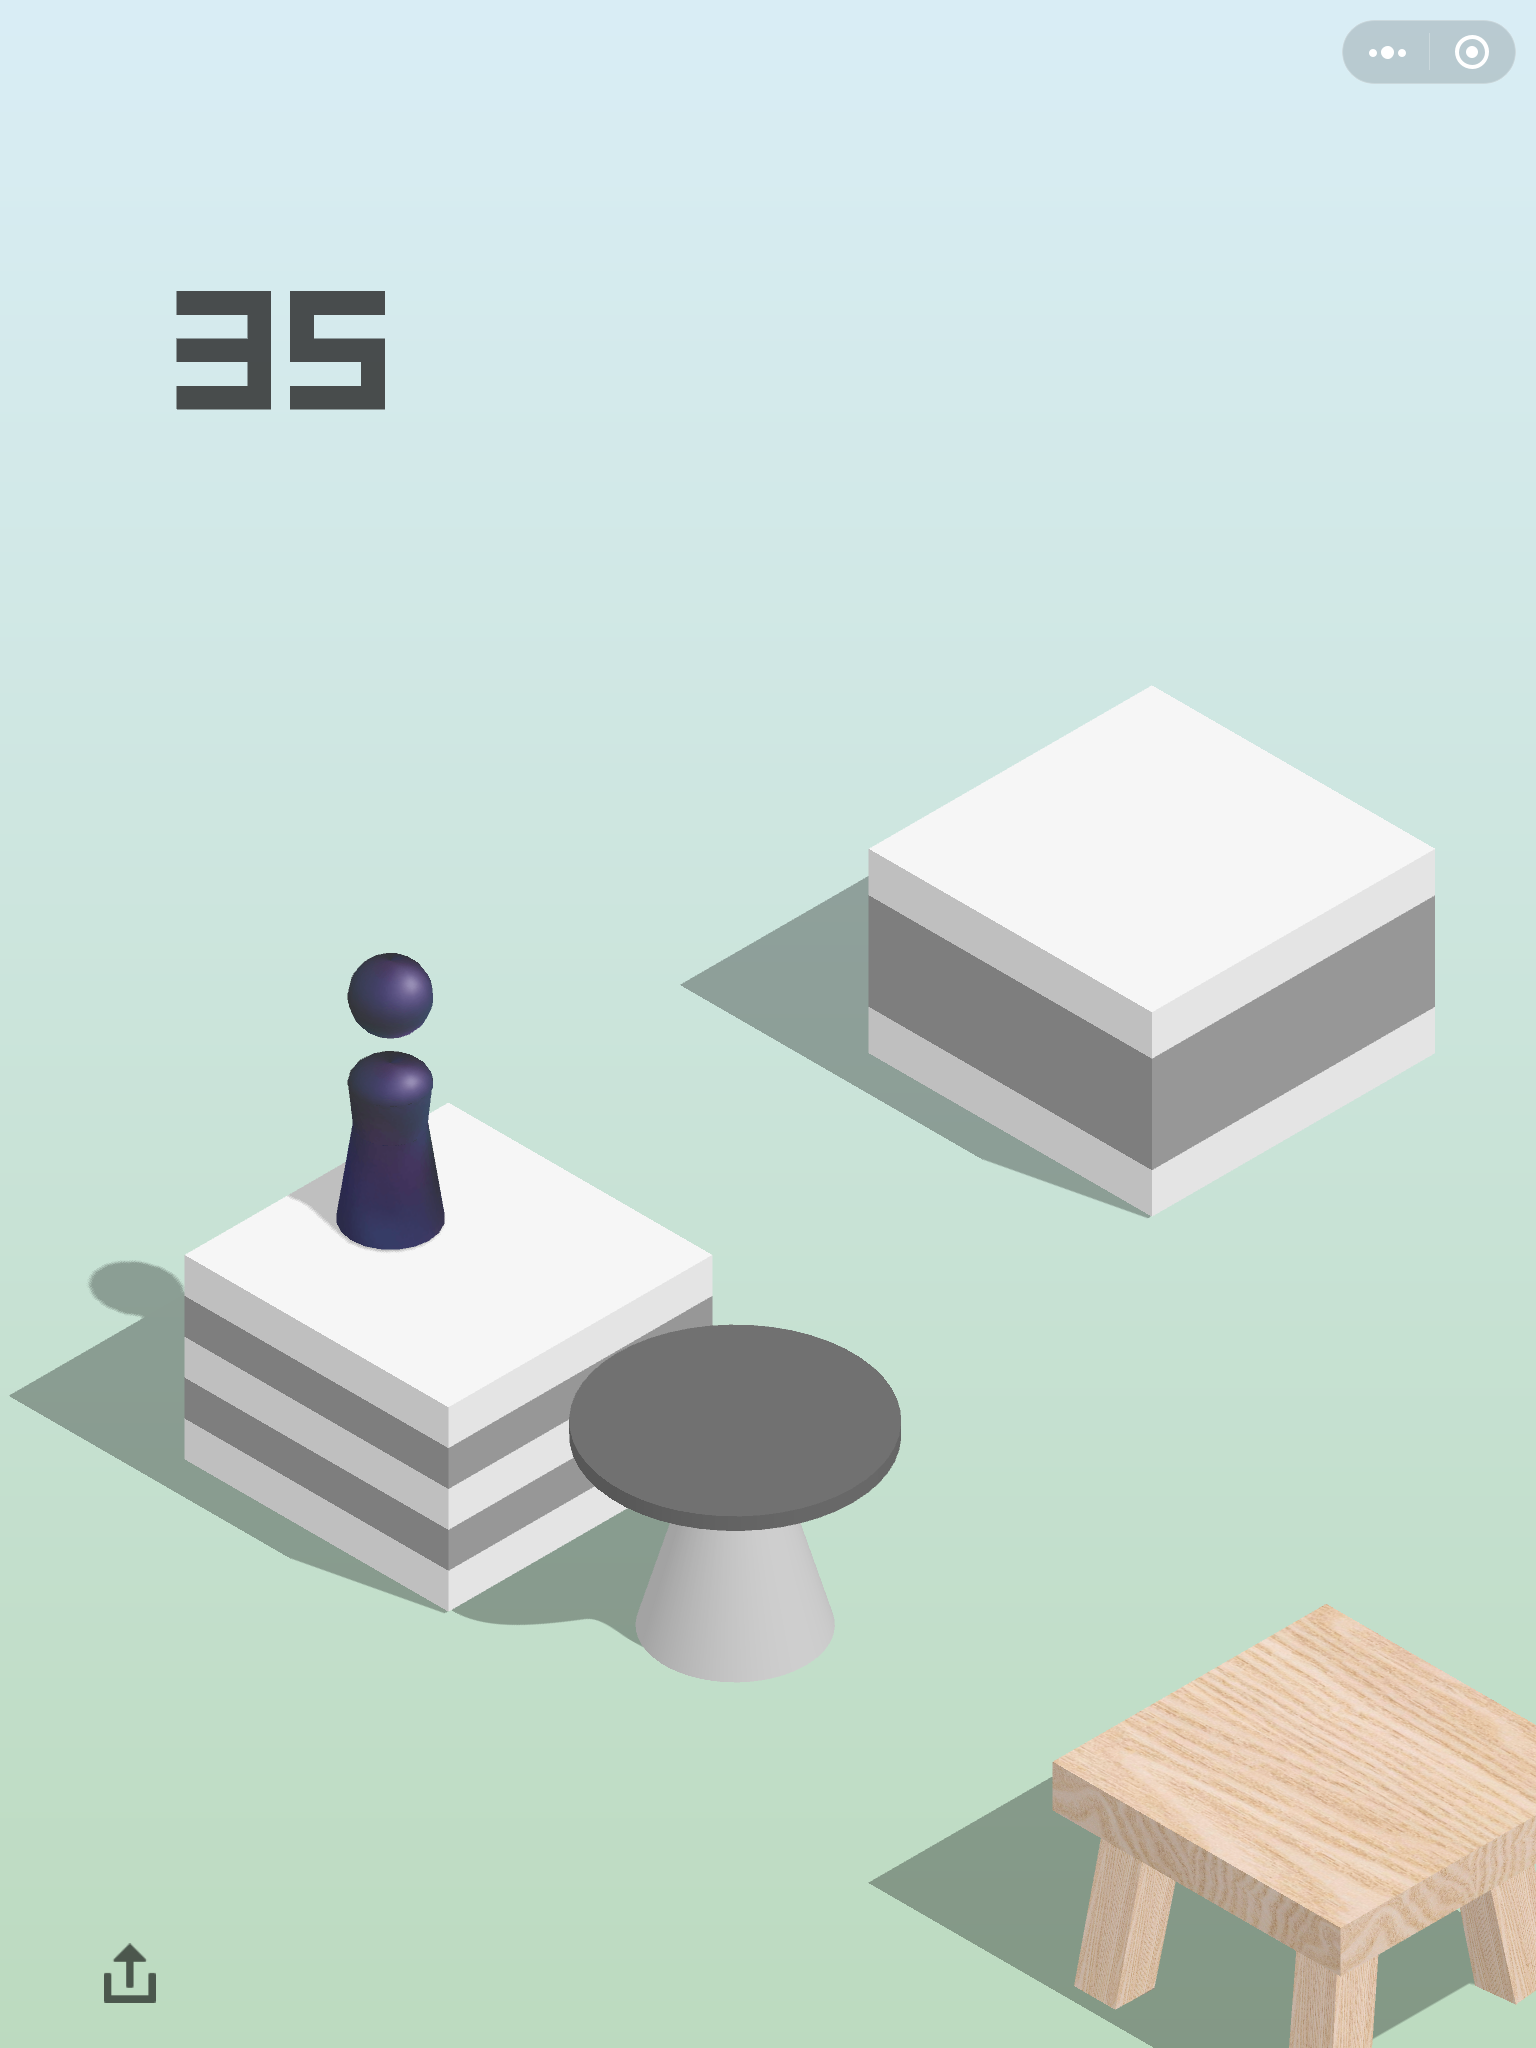c: (566, 1319, 907, 1692)
f: (862, 677, 1446, 1226), (177, 1095, 716, 1619), (1047, 1593, 1536, 2038)
r: (332, 950, 449, 1256)
